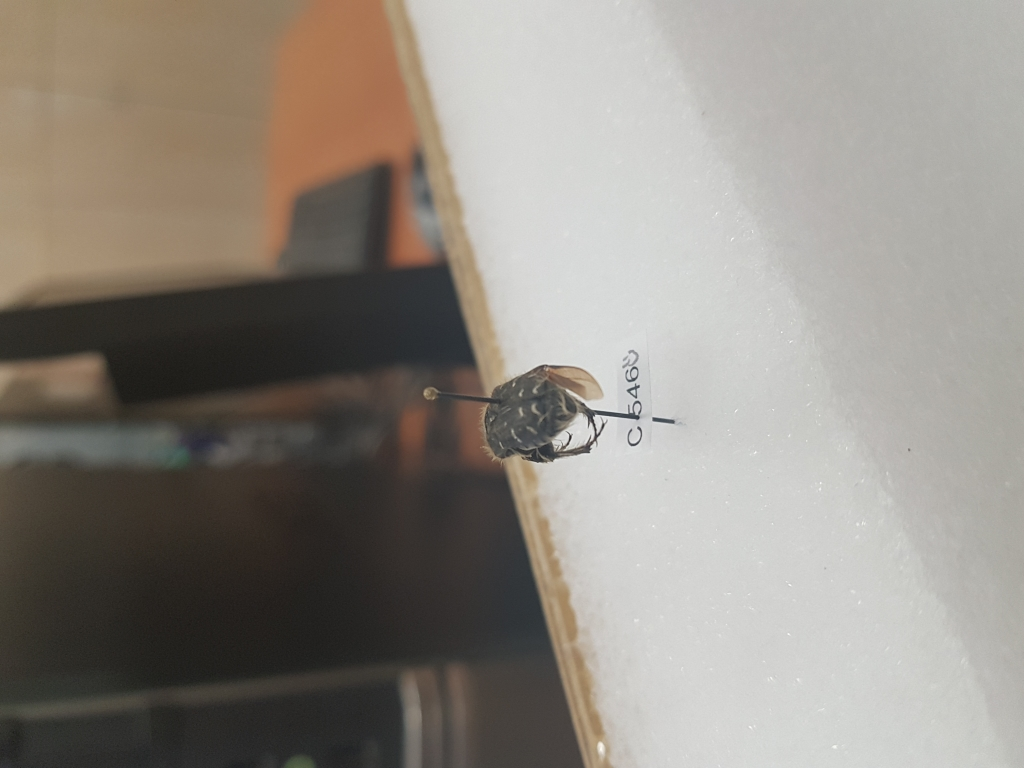Tropinota_senicula: (476, 349, 620, 482)
